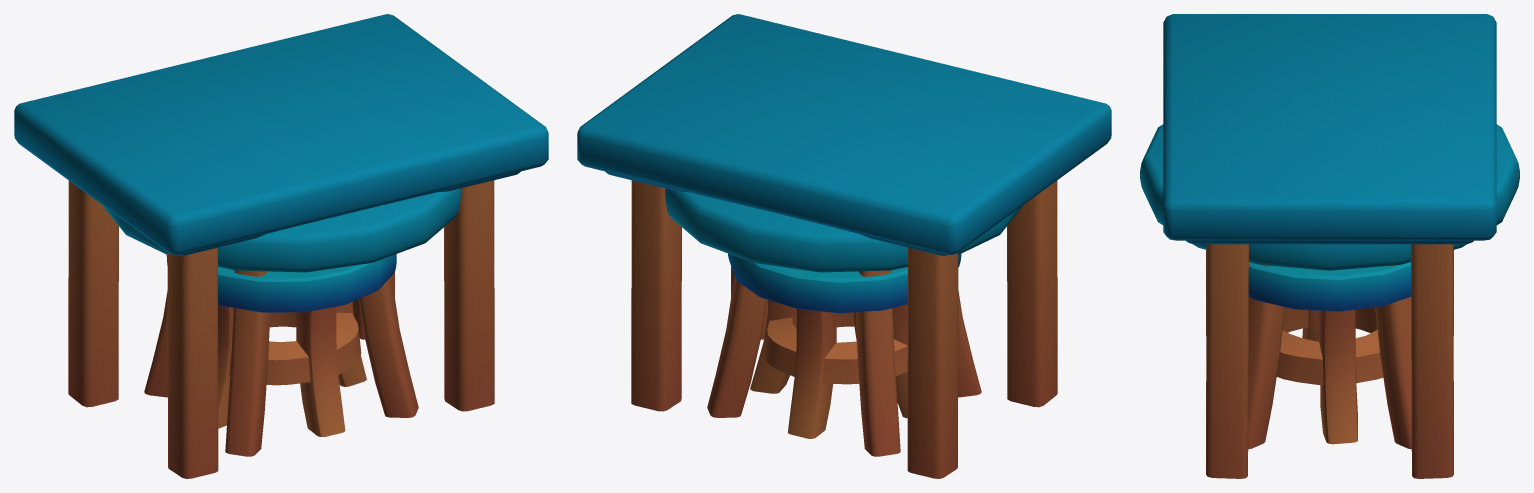
The model's file is Blue_C_D.fbx.
3 views of the same model, side by side, from view 1: azimuth 30°, elevation 25°; view 2: azimuth 150°, elevation 25°; view 3: azimuth 270°, elevation 25° (orthographic). The views are drawn at different scales.
Parts seen in each view (by area): view 1: Blue_BigDesk, Blue_Desk, Blue_Chair; view 2: Blue_BigDesk, Blue_Desk, Blue_Chair; view 3: Blue_BigDesk, Blue_Chair, Blue_Desk.
Part boxes in pixels (x1=…): Blue_BigDesk: x1=14, y1=14, x2=548, y2=478; Blue_Desk: x1=103, y1=188, x2=460, y2=456; Blue_Chair: x1=166, y1=254, x2=396, y2=436; Blue_BigDesk: x1=577, y1=14, x2=1111, y2=478; Blue_Desk: x1=665, y1=188, x2=1022, y2=456; Blue_Chair: x1=728, y1=253, x2=961, y2=438; Blue_BigDesk: x1=1163, y1=14, x2=1496, y2=478; Blue_Chair: x1=1248, y1=262, x2=1411, y2=444; Blue_Desk: x1=1140, y1=124, x2=1519, y2=449.
Bounding box in the file's own units: 145 × 104 × 121.
